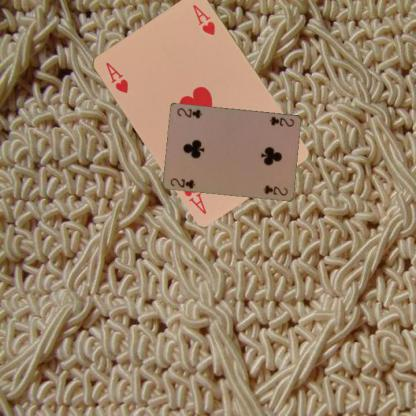2c: (168, 176, 197, 190), (267, 114, 295, 128)
Ah: (103, 60, 129, 95)
